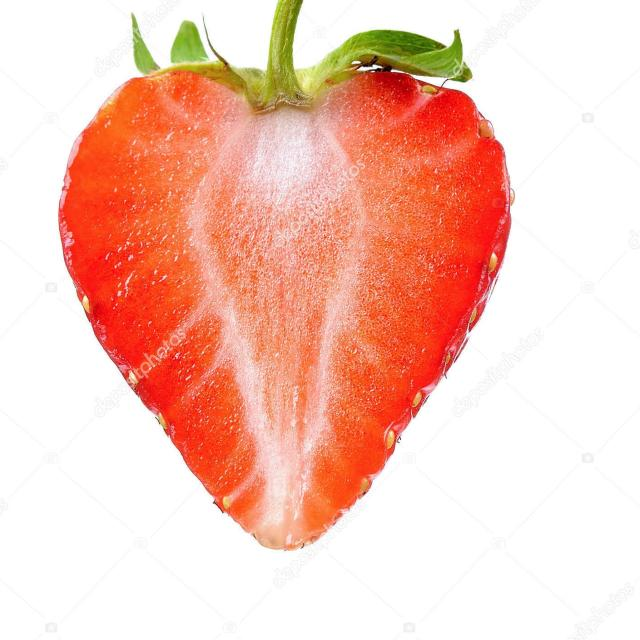strawberry: (48, 0, 508, 549)
